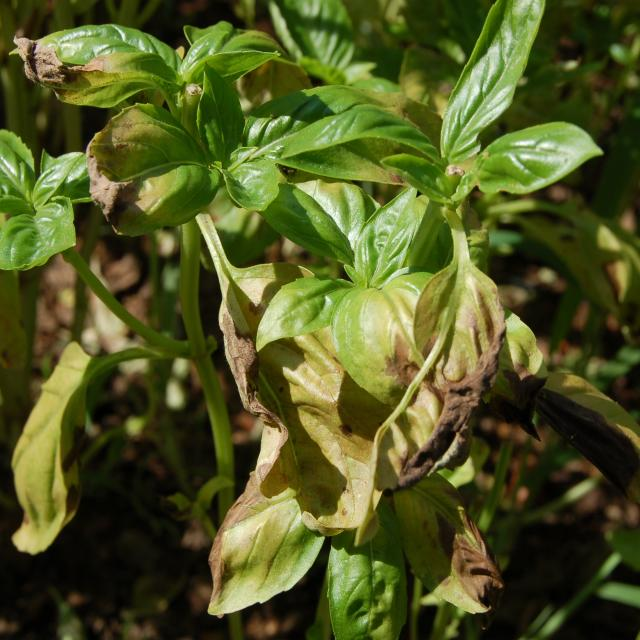unhealthy: (205, 250, 515, 612), (7, 12, 173, 250)
